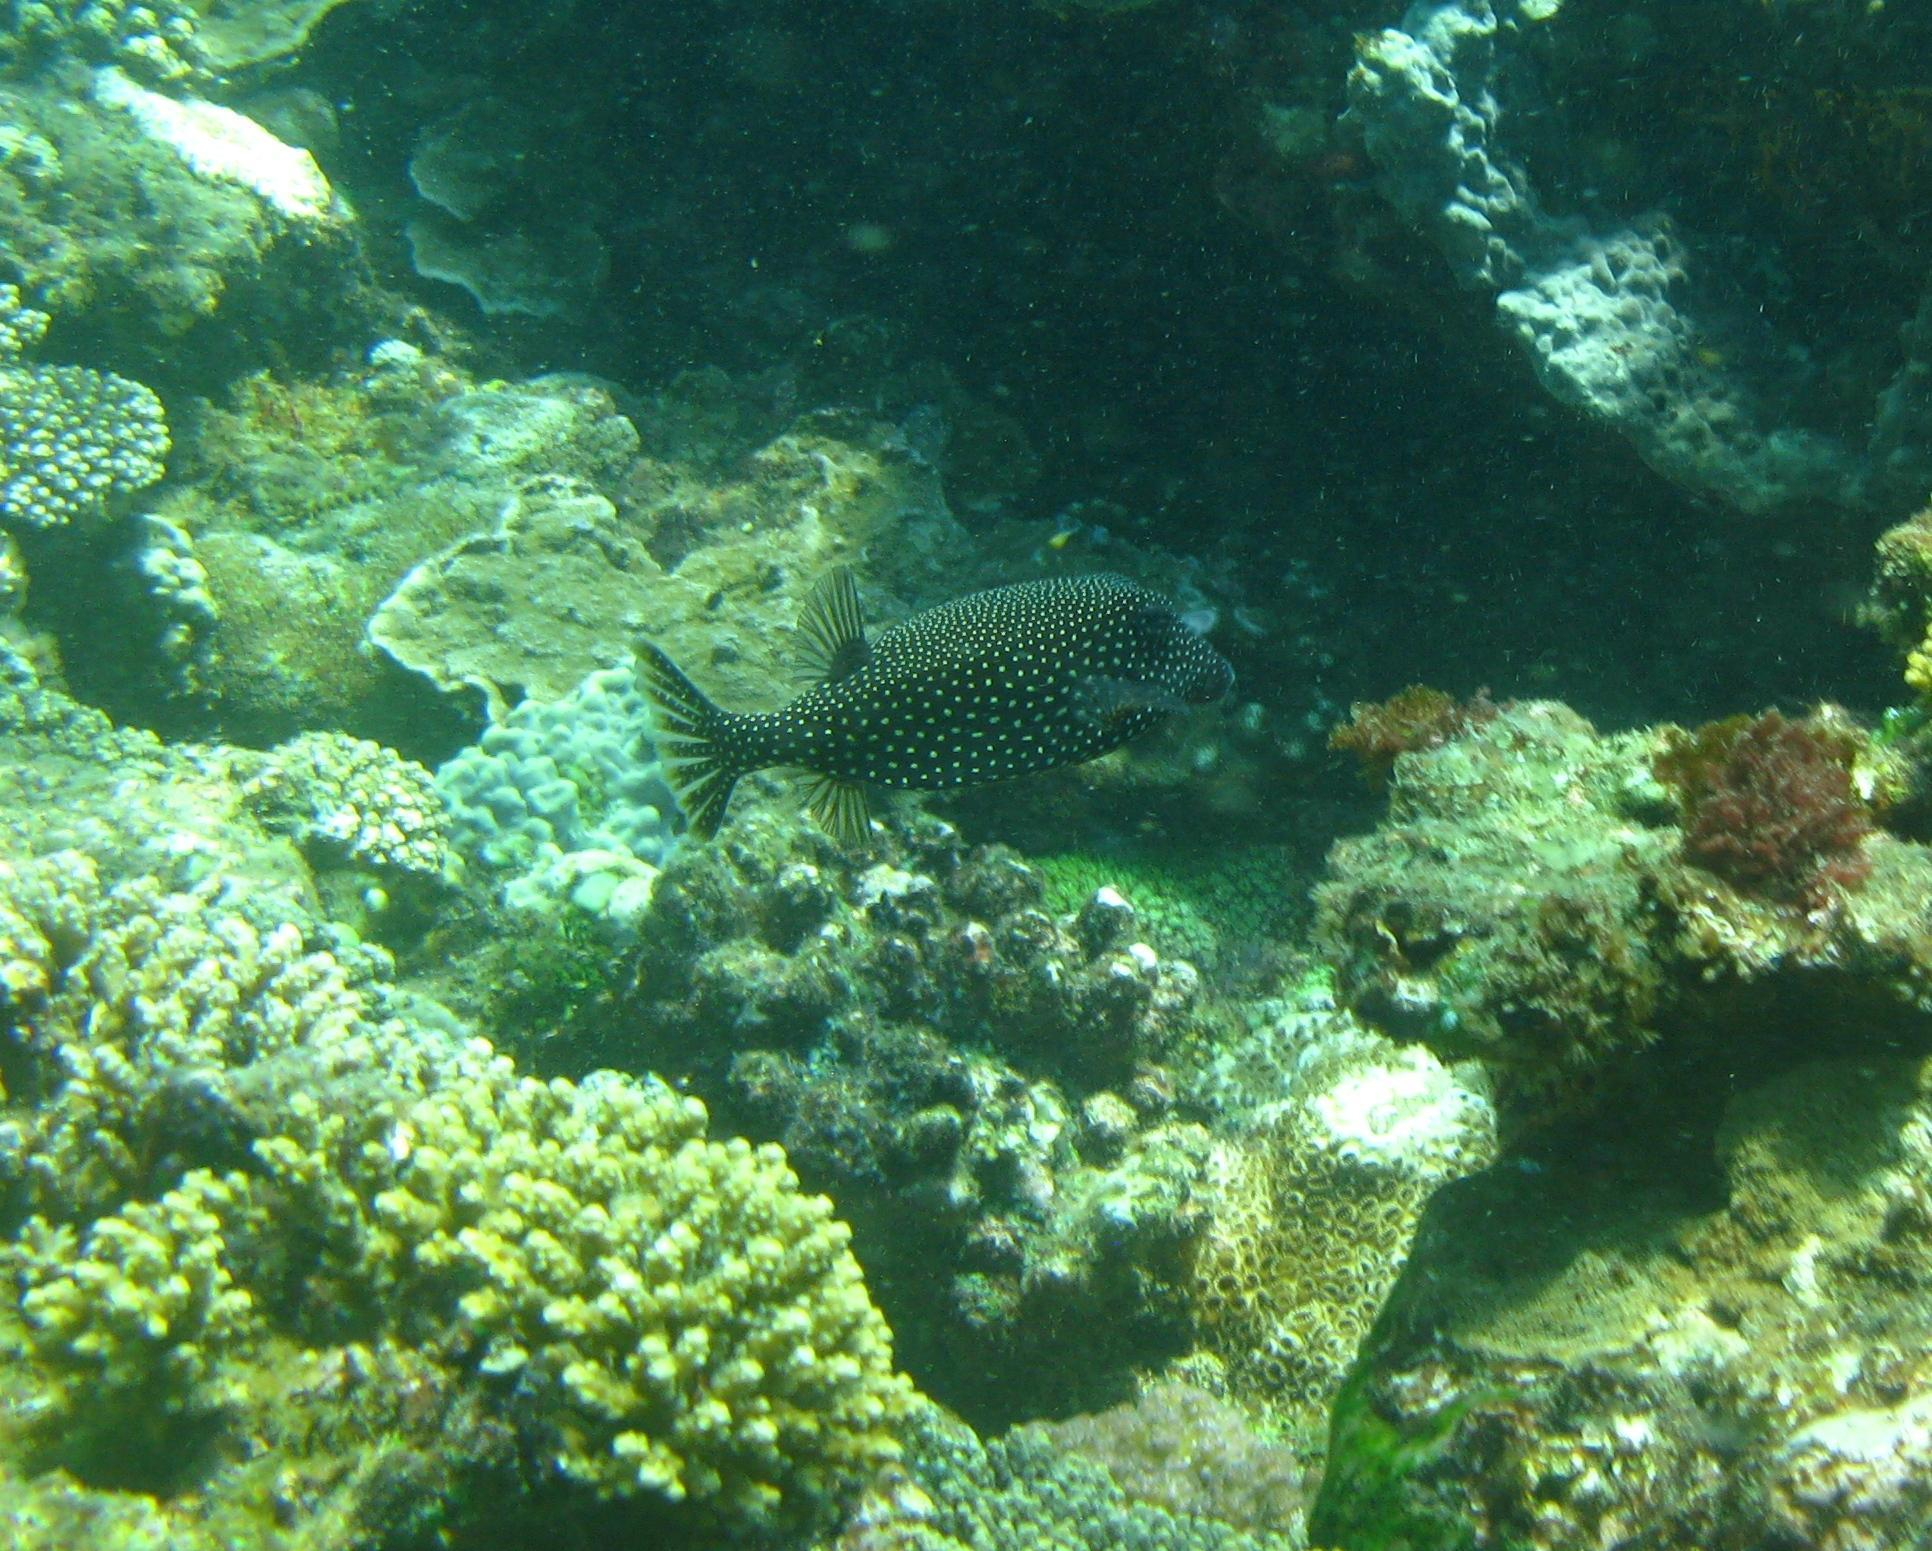Fish: (521, 510, 1272, 950)
